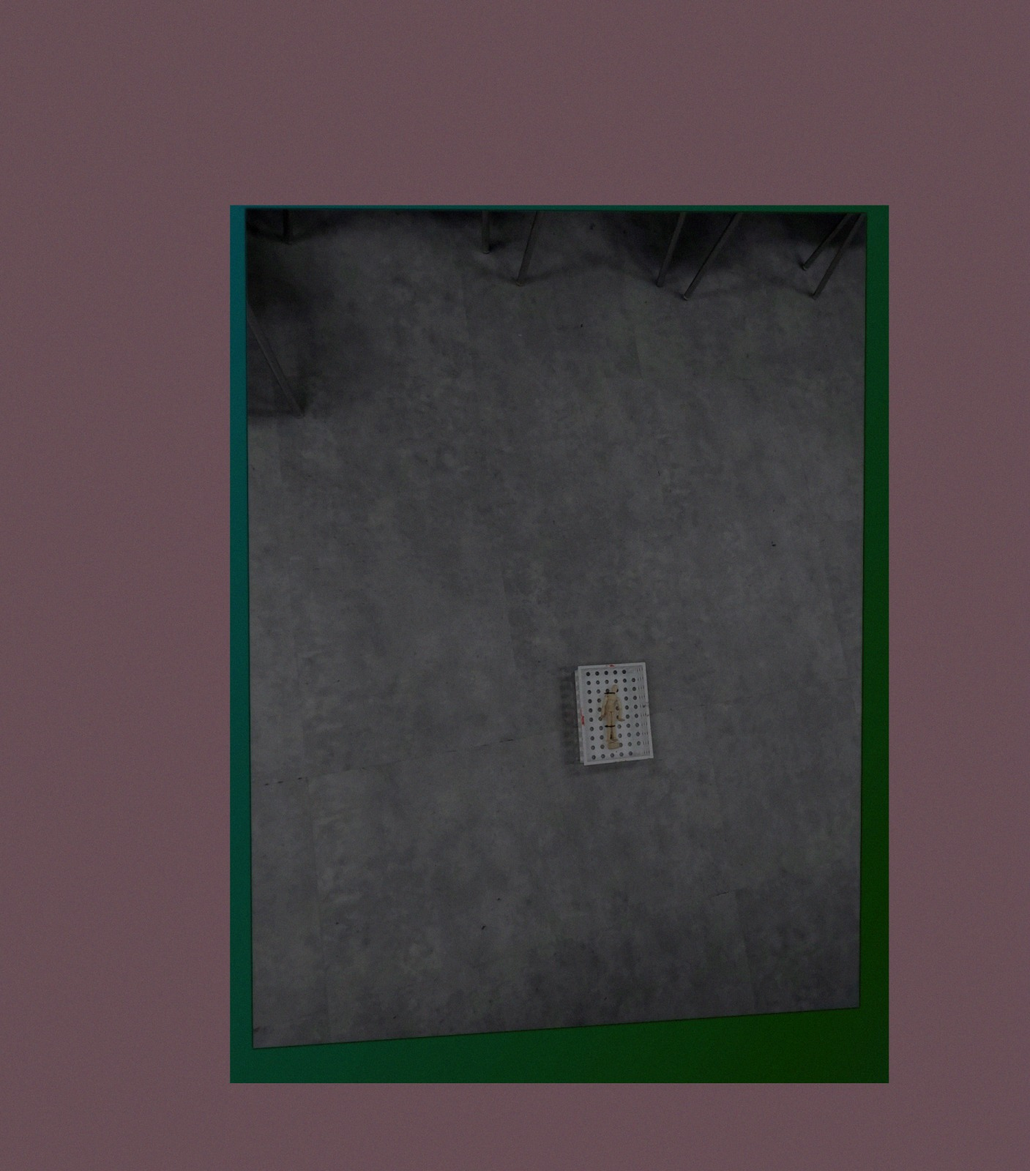basket: (572, 660, 655, 768)
mannequin: (599, 683, 625, 751)
